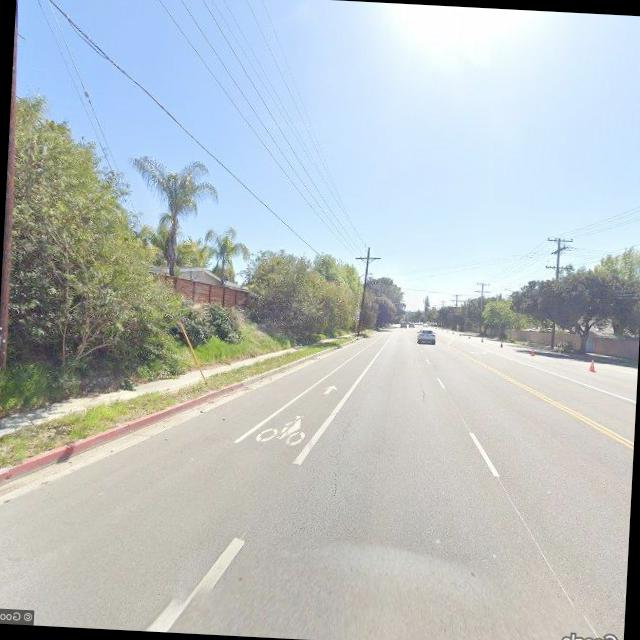pothole: (322, 416, 353, 522), (417, 378, 431, 406)
